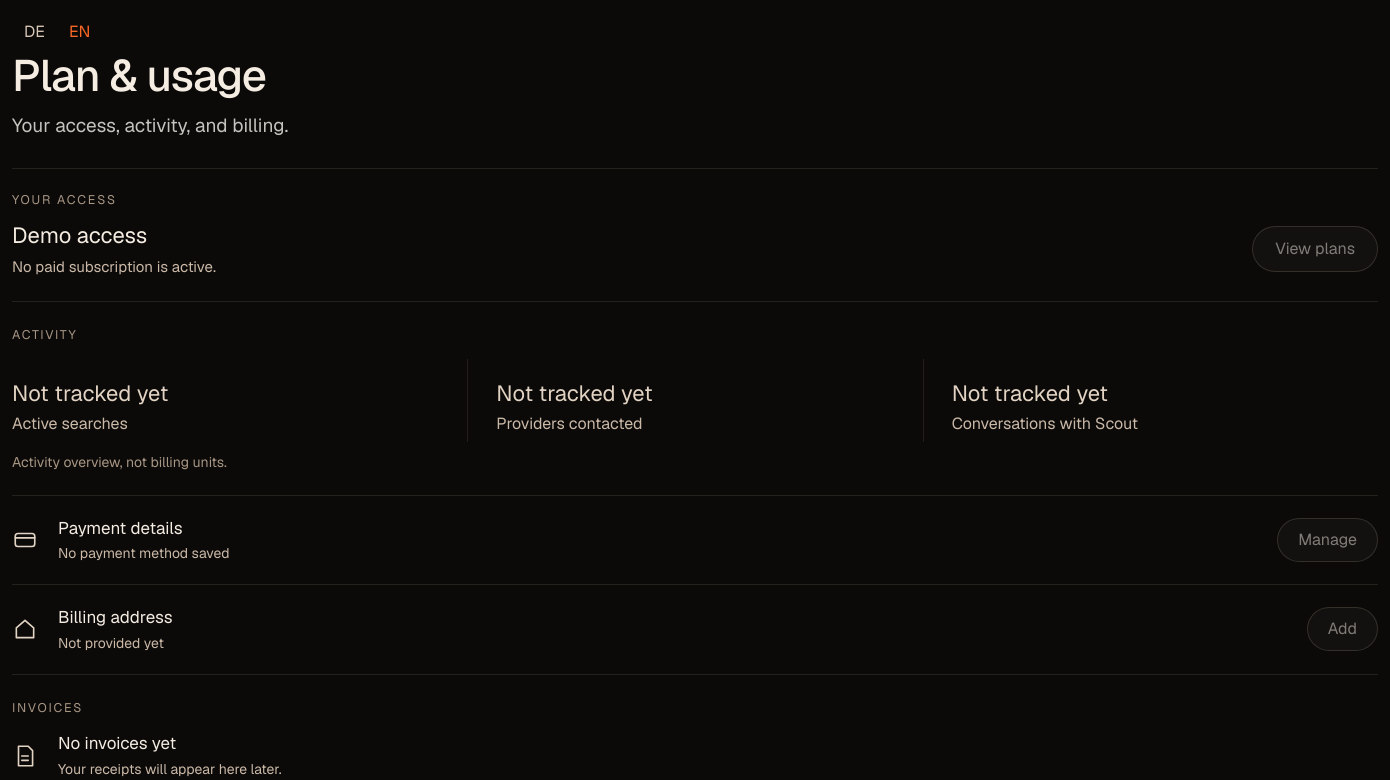
Test: LiveBillingSection › switches live billing copy while preserving disabled billing actions
Check: the heading "Plan & usage" is shown, box [12,47,266,104]
Check: the button "View plans" is disabled, box [1252,226,1378,272]
Click the button "DE" at (34, 32), box [12,12,57,52]
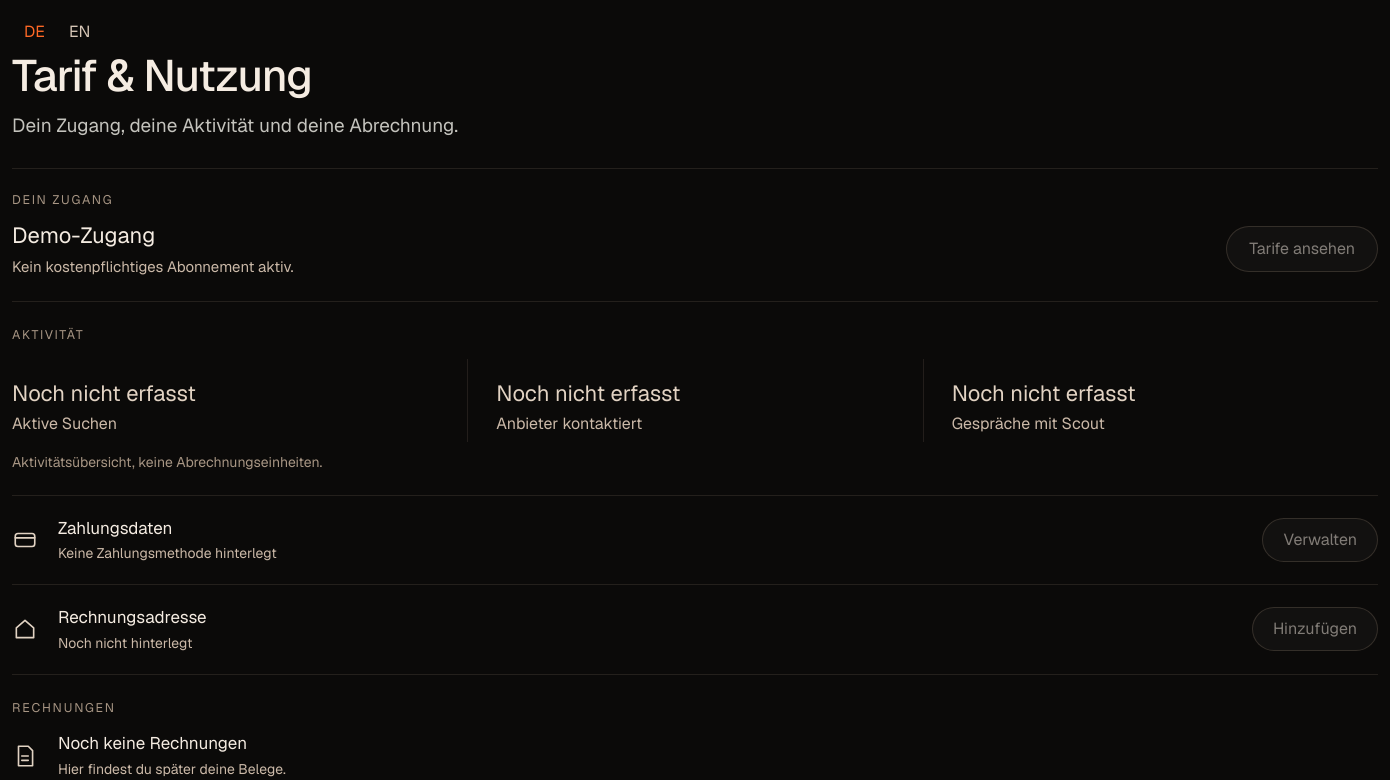
Check: the button "Tarife ansehen" is disabled, box [1226,226,1378,272]
Check: the heading "Tarif & Nutzung" is shown, box [12,47,312,104]
